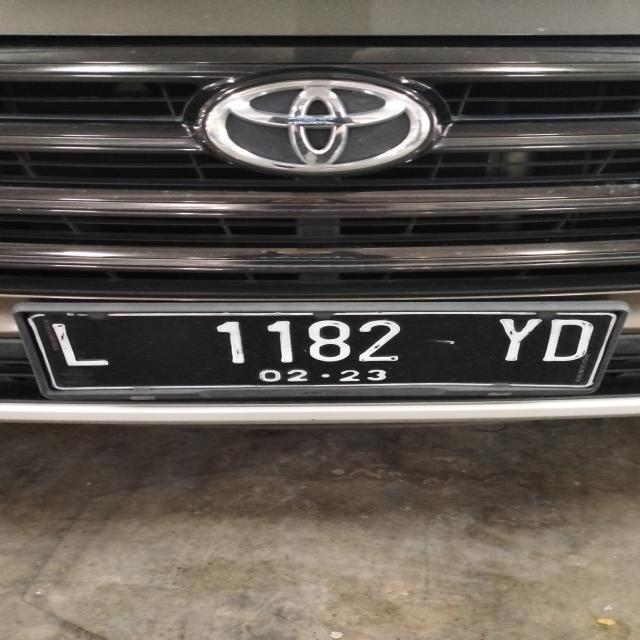1: (256, 315, 308, 369), (210, 312, 253, 371)
2: (361, 312, 407, 367)
8: (307, 317, 362, 364)
D: (544, 313, 596, 371)
L: (38, 315, 122, 374)
Y: (483, 315, 542, 368)
